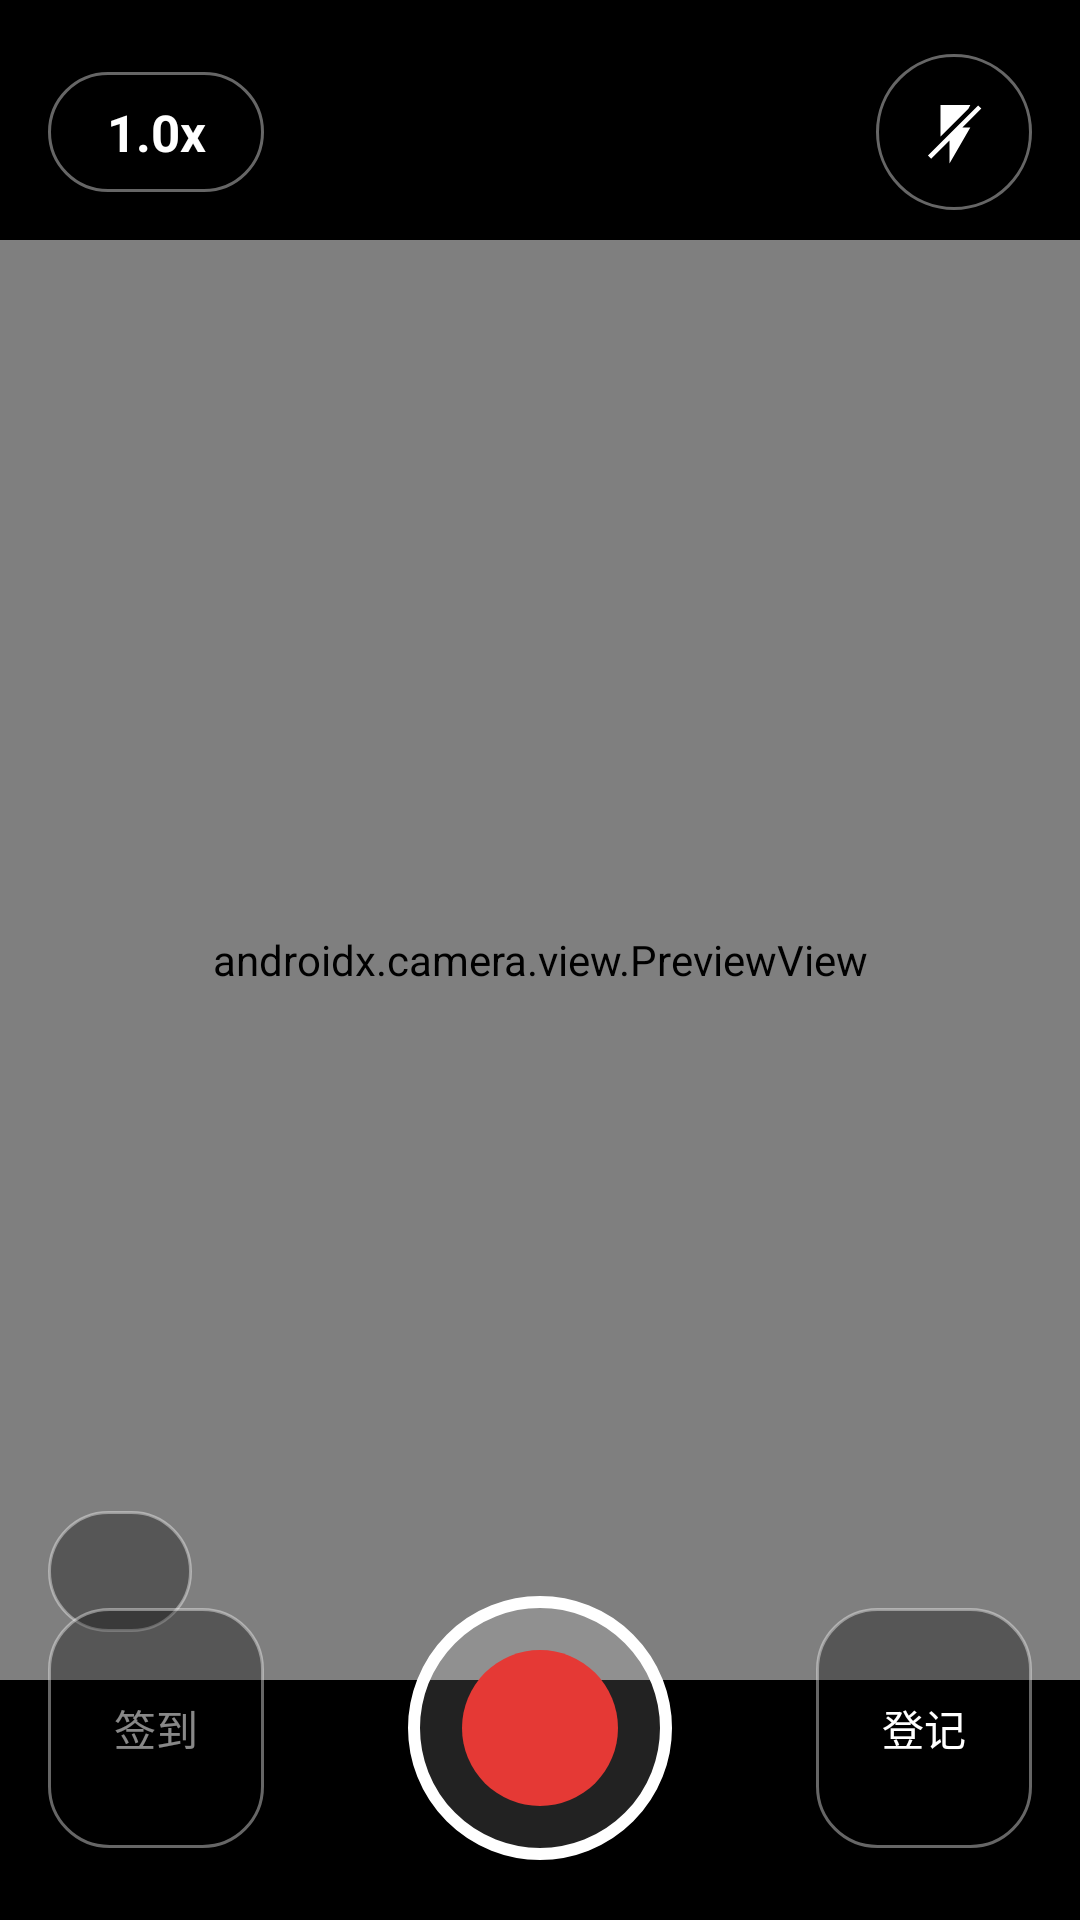

Where to tap for icons on this 1080x1920 app screen, as (x,y):
闪光灯: (954,132)
